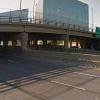Bridge: (5, 7, 87, 52)
